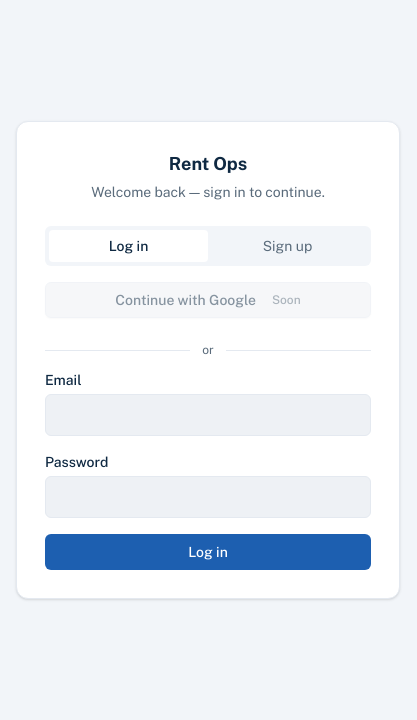
Test: auth card toggle › swaps back to login
This screenshot has width=417, height=720.
Click the button with aria-label "Switch to sign up".
click(288, 246)  # box 208,230 -> 367,262
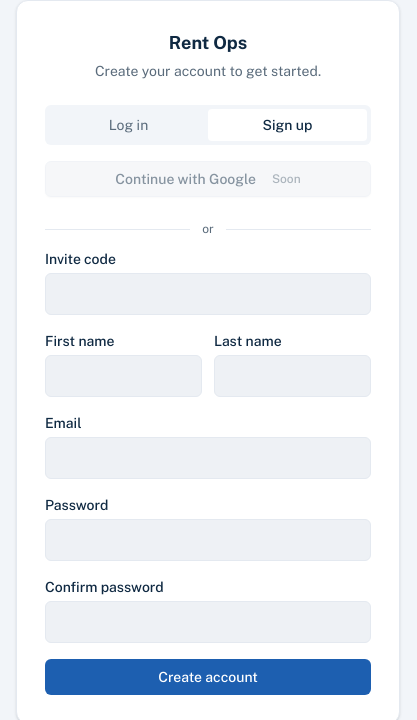
Click the button with aria-label "Switch to log in".
click(128, 125)  # box 49,109 -> 208,141
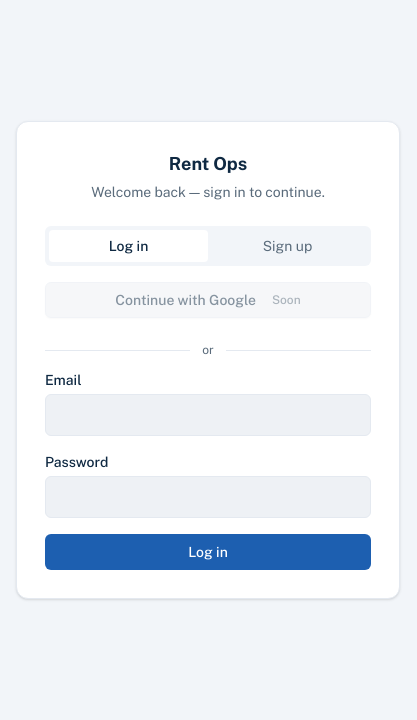
Result: the label labelled "Invite code" is gone
